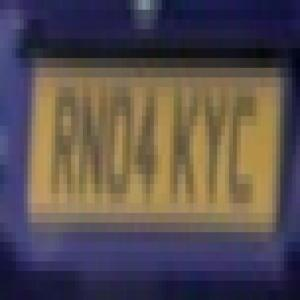Plate: (22, 36, 285, 242)
